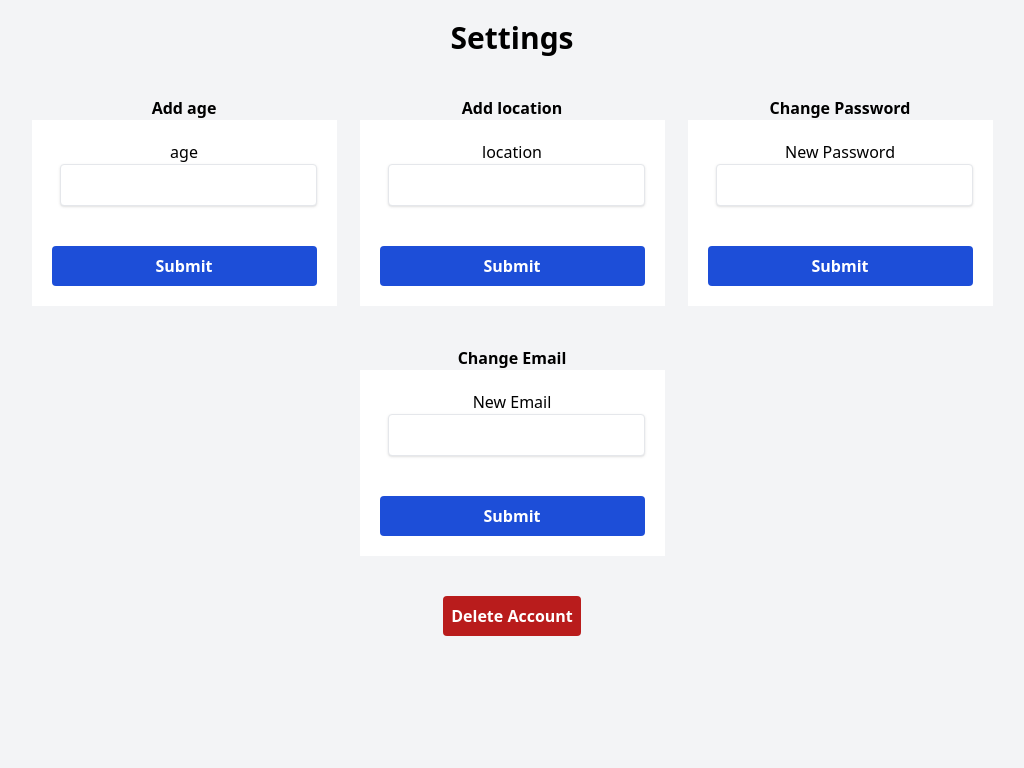
When the user clicks Delete Account the correct text shows below the button
Expected: the text "Are you sure you want to delete your account?" is not shown
Click the button "Delete Account" at [512, 616], box [443, 596, 581, 636]
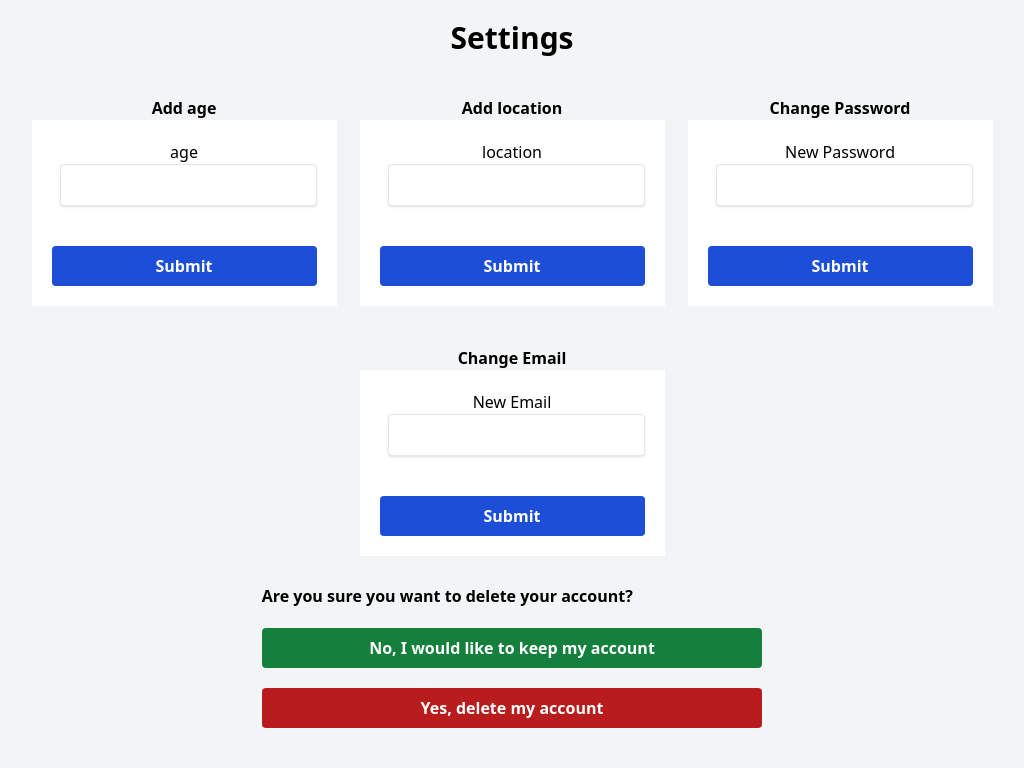
Expected: the text "Are you sure you want to delete your account?" is shown, [262, 585, 633, 607]
Expected: the button "No, I would like to keep my account" is shown, [262, 628, 762, 668]
Expected: the button "Yes, delete my account" is shown, [262, 688, 762, 728]
